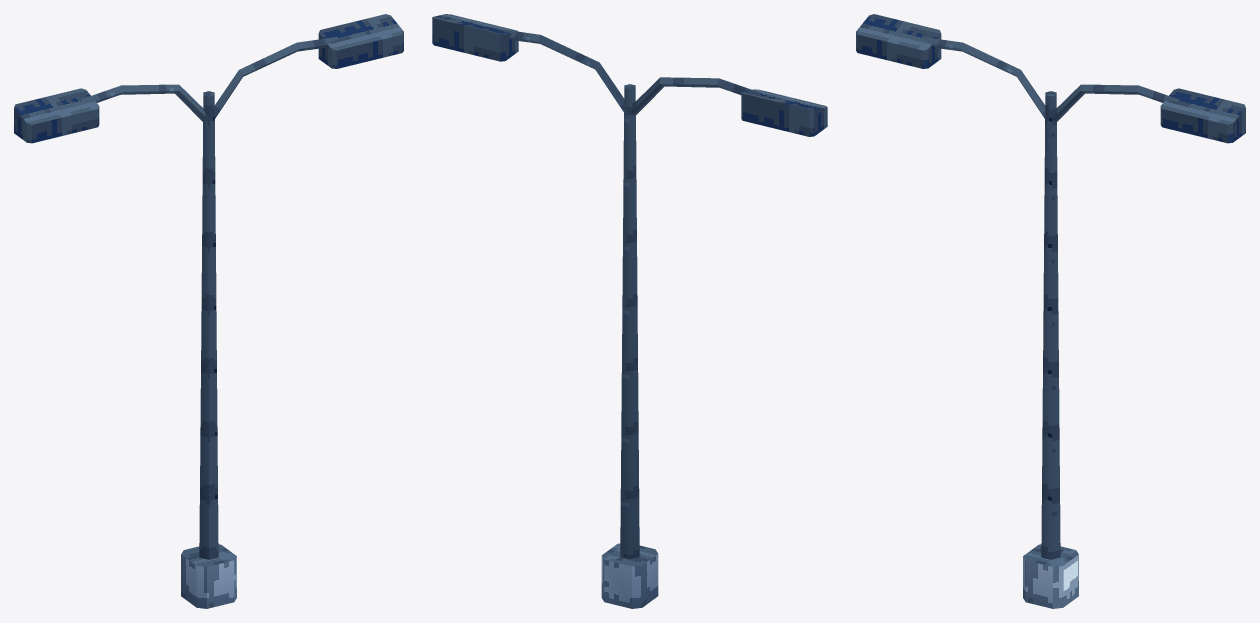
The model's file is cytech.street_light__double.glb.
The picture shows the model from 3 angles, left to right: view 1: azimuth 30°, elevation 25°; view 2: azimuth 150°, elevation 25°; view 3: azimuth 330°, elevation 25°; orthographic projection.
Parts seen in each view (by area): view 1: kit_pole; view 2: kit_pole; view 3: kit_pole.
Part boxes in pixels (x1,y1,x2,y2): kit_pole: (14,14,403,608); kit_pole: (432,14,827,608); kit_pole: (856,14,1245,608).
Bounding box in the file's own units: 4.7 × 6.35 × 0.5.
Materials: 5 (5 with a texture image).
